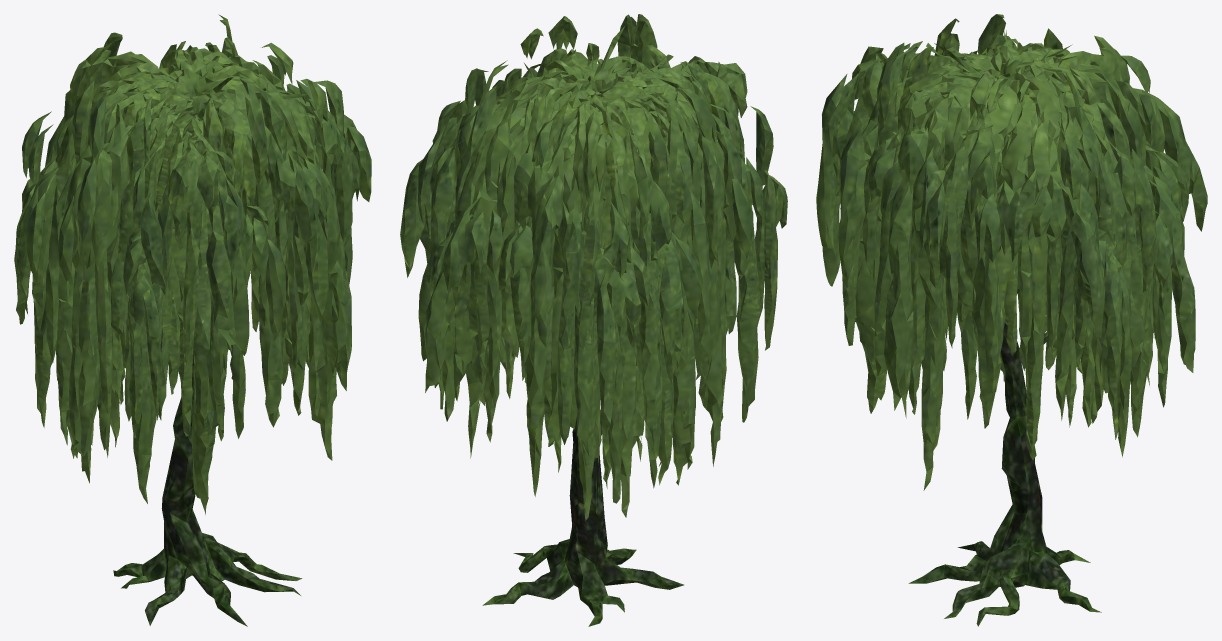
Rendered from tree-willow-a.glb.
3 views of the same model, side by side, from view 1: azimuth 30°, elevation 25°; view 2: azimuth 150°, elevation 25°; view 3: azimuth 270°, elevation 25° (orthographic).
Visible parts, largest first — view 1: output_unwrapped; view 2: output_unwrapped; view 3: output_unwrapped.
Part boxes in pixels (bbox=[...]): output_unwrapped: bbox=[14, 14, 371, 626]; output_unwrapped: bbox=[400, 14, 787, 626]; output_unwrapped: bbox=[816, 14, 1207, 626].
Bounding box in the file's own units: 6.52 × 11.21 × 7.32.
Materials: 1 (1 with a texture image).
